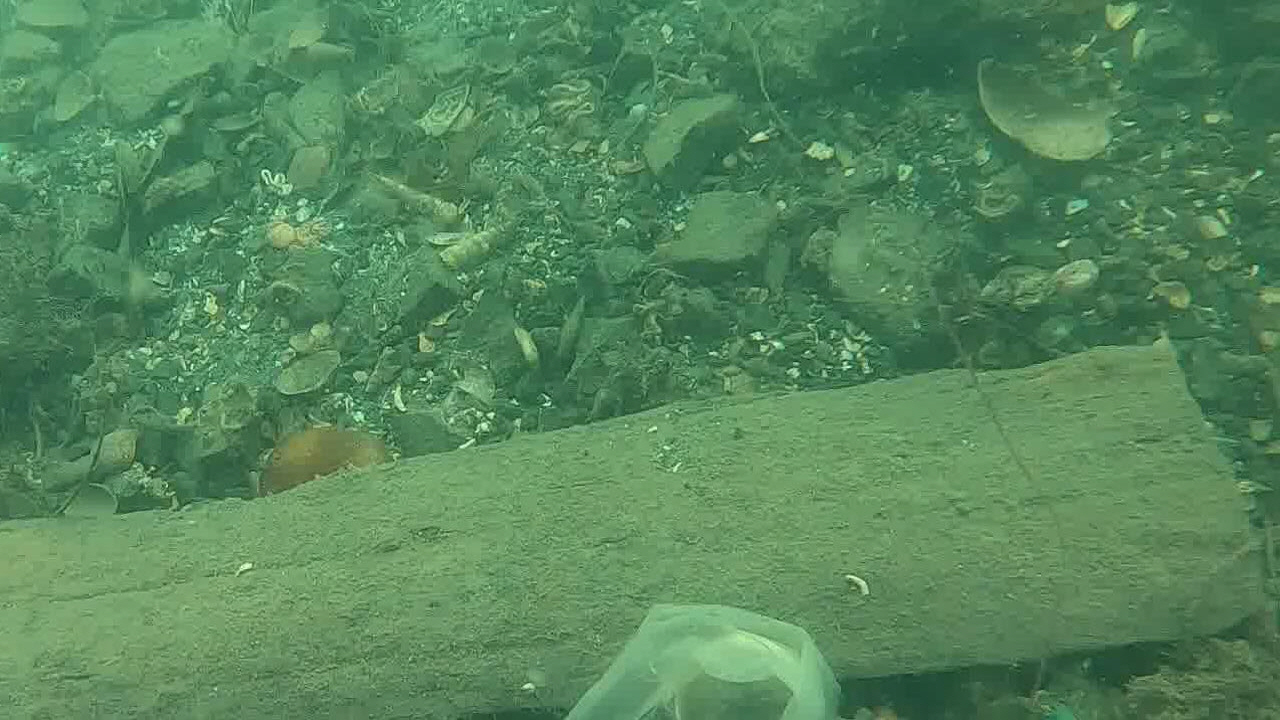wood: (0, 338, 1269, 720)
